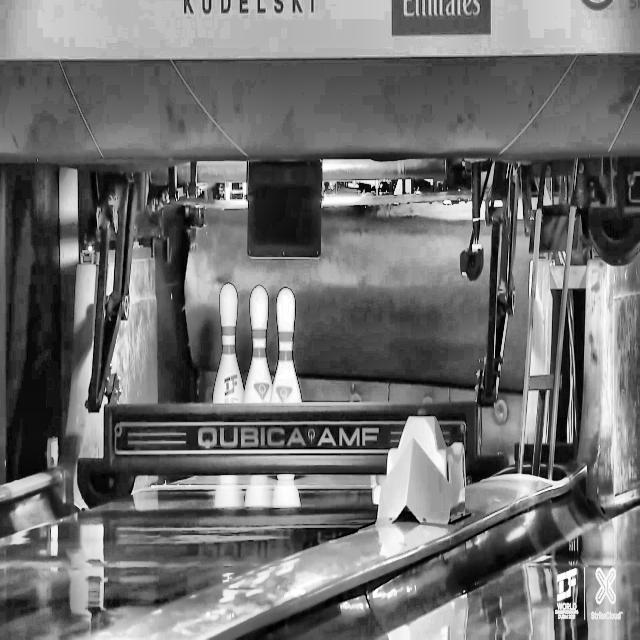bowling-ball: (77, 402, 477, 506)
bowling-pins: (213, 283, 244, 403), (270, 288, 301, 403), (244, 286, 272, 403)
